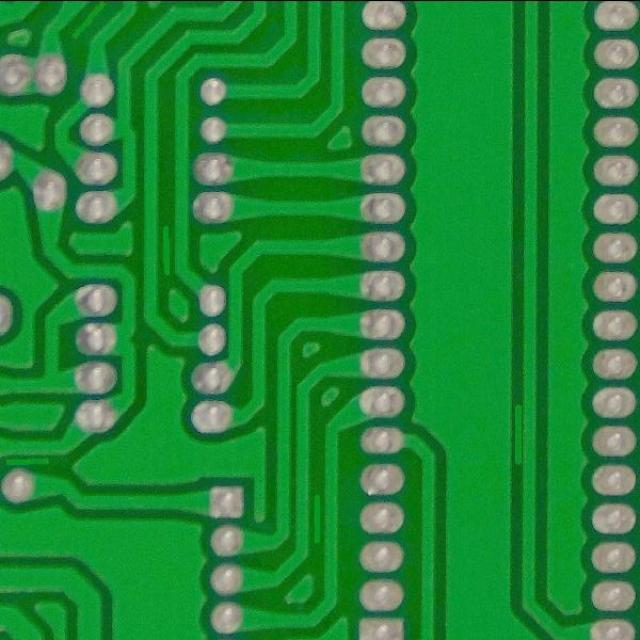Spurious_Cooper: (60, 0, 117, 46), (510, 399, 526, 470), (158, 220, 176, 278), (310, 489, 326, 547), (2, 454, 56, 470)
